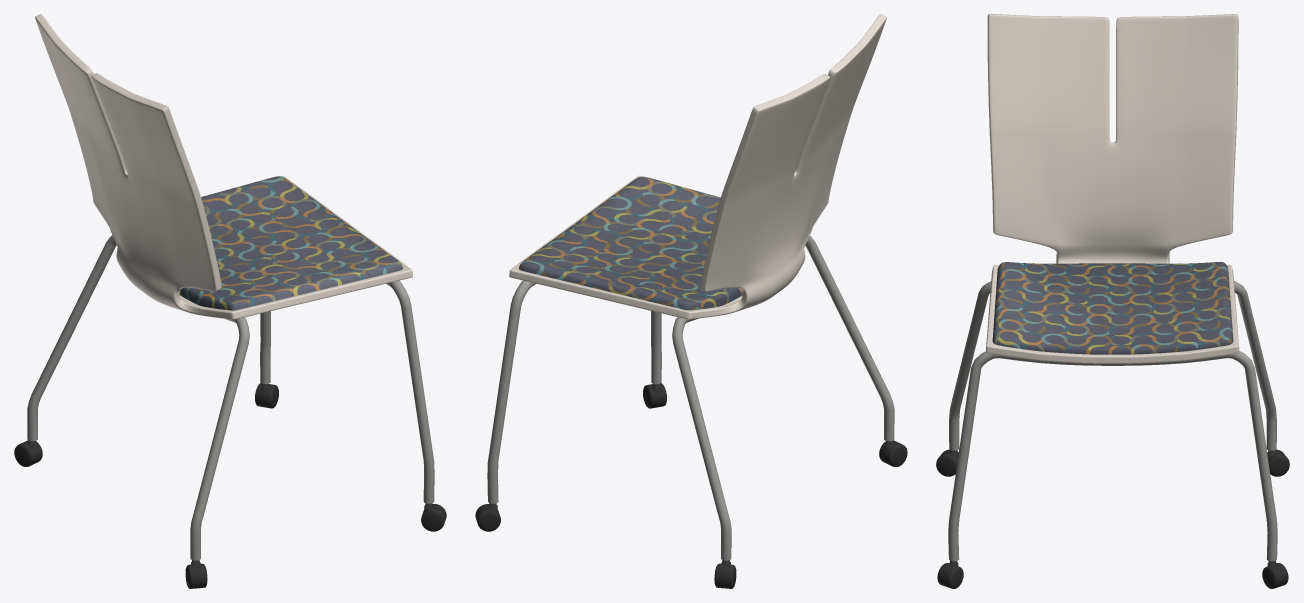
File: school_chair.fbx
3 views of the same model, side by side, from view 1: azimuth 30°, elevation 25°; view 2: azimuth 150°, elevation 25°; view 3: azimuth 270°, elevation 25° (orthographic). The views are drawn at different scales.
Parts seen in each view (by area): view 1: Plane, Plane.001, Cylinder, Cylinder.003, Cylinder.004, Cylinder.002; view 2: Plane, Plane.001, Cylinder, Cylinder.003, Cylinder.004, Cylinder.002; view 3: Plane, Plane.001, Cylinder.003, Cylinder, Cylinder.002, Cylinder.004.
Part boxes in pixels (x1,y1,x2,y2): Plane: (35,14,412,319); Plane.001: (179,176,402,310); Cylinder: (27,235,249,560); Cylinder.003: (260,280,434,503); Cylinder.004: (14,440,207,588); Cylinder.002: (255,383,446,531); Plane: (509,14,886,319); Plane.001: (519,176,742,310); Cylinder: (672,236,894,560); Cylinder.003: (487,280,661,503); Cylinder.004: (714,440,907,588); Cylinder.002: (475,383,666,531); Plane: (986,14,1239,363); Plane.001: (992,262,1233,354); Cylinder.003: (948,351,1277,561); Cylinder: (949,281,1276,450); Cylinder.002: (937,563,1288,588); Cylinder.004: (936,449,1289,476).
Bounding box in the file's own units: 206 × 335 × 236.
Materials: 5 (1 with a texture image).
